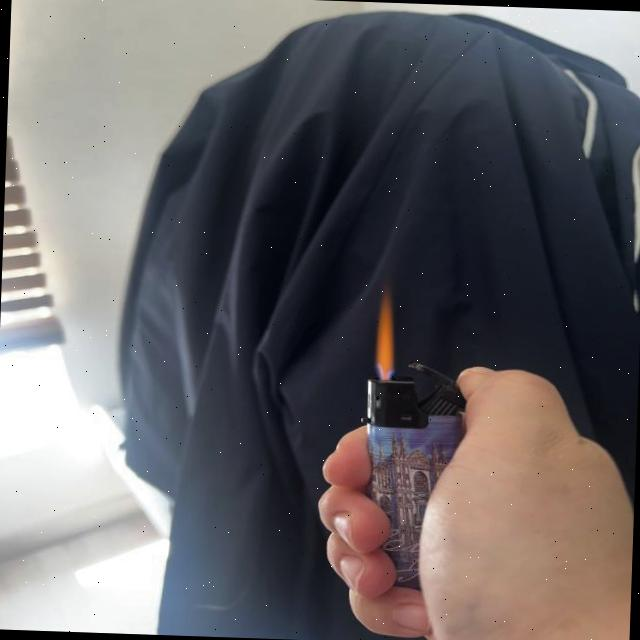fire: (370, 288, 400, 374)
